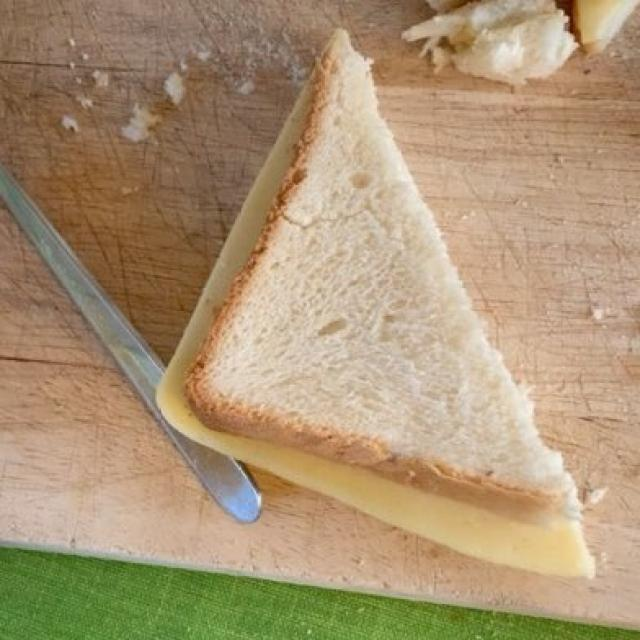bread: (137, 30, 607, 578)
cheese: (138, 65, 599, 586)
